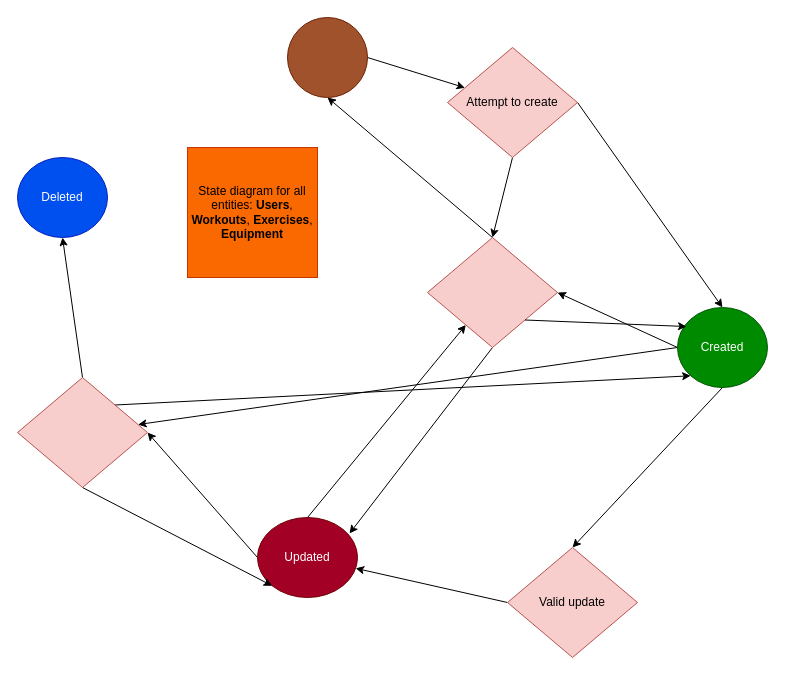
The diagram is 785 pixels wide and 675 high, and some of its shapes have lost their labels. The shapes that lost their labels are listed below. From the top down, each one's centre as x and y in pixels, then its label:
At point 327,57: "Not created".
At point 492,292: "Invalid update/input".
At point 82,432: "Deletion request".
